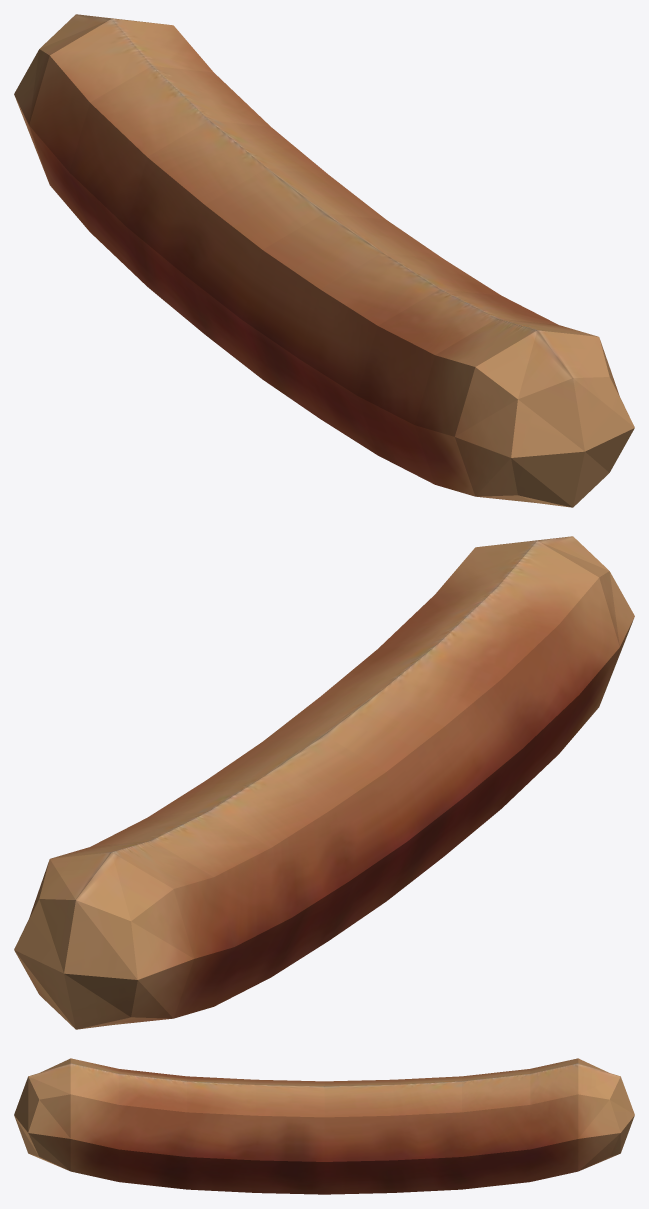
File: food_bratwurst_polygoogle.glb
3 renders of one model, top to bottom at view 1: azimuth 30°, elevation 25°; view 2: azimuth 150°, elevation 25°; view 3: azimuth 270°, elevation 25°, orthographic. The views are drawn at different scales.
Parts seen in each view (by area): view 1: Node; view 2: Node; view 3: Node.
Part boxes in pixels (left/top/right/bottom): Node: left=14, top=14, right=634, bottom=507; Node: left=14, top=536, right=634, bottom=1029; Node: left=14, top=1058, right=634, bottom=1194.
Size of the model in its own units: 0.0293 by 0.0358 by 0.16.
Materials: 1 (1 with a texture image).
